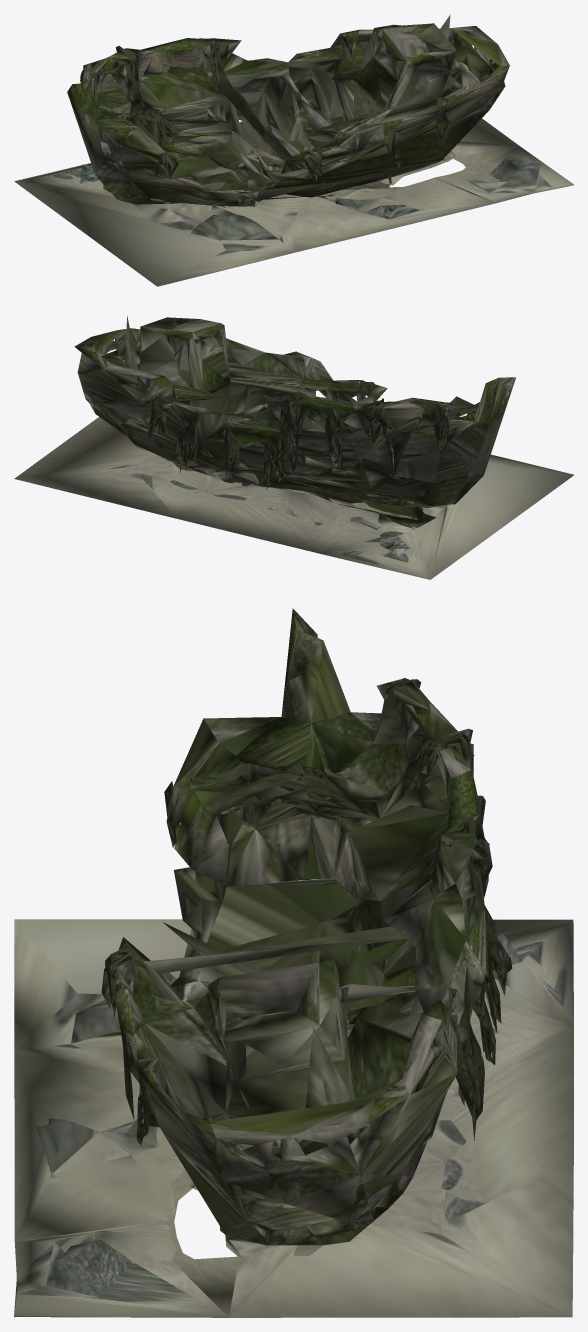
Rendered from BarcoRuinas.fbx.
3 renders of one model, top to bottom at view 1: azimuth 30°, elevation 25°; view 2: azimuth 150°, elevation 25°; view 3: azimuth 270°, elevation 25°, orthographic. The views are drawn at different scales.
Visible parts, largest first — view 1: BarcoRuinas; view 2: BarcoRuinas; view 3: BarcoRuinas.
Boxes of the visible parts, x1,y1,x2,y2 form: BarcoRuinas: (14, 14, 573, 286); BarcoRuinas: (14, 316, 573, 579); BarcoRuinas: (14, 608, 573, 1317).
Bounding box in the file's own units: 14 × 4.99 × 8.1.
1 material, 1 textured.
